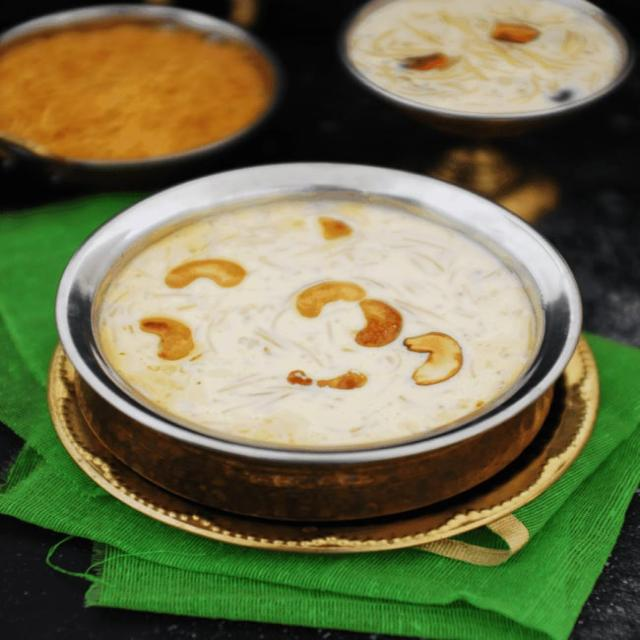shavige payasa: (81, 182, 556, 454), (330, 0, 640, 126)
